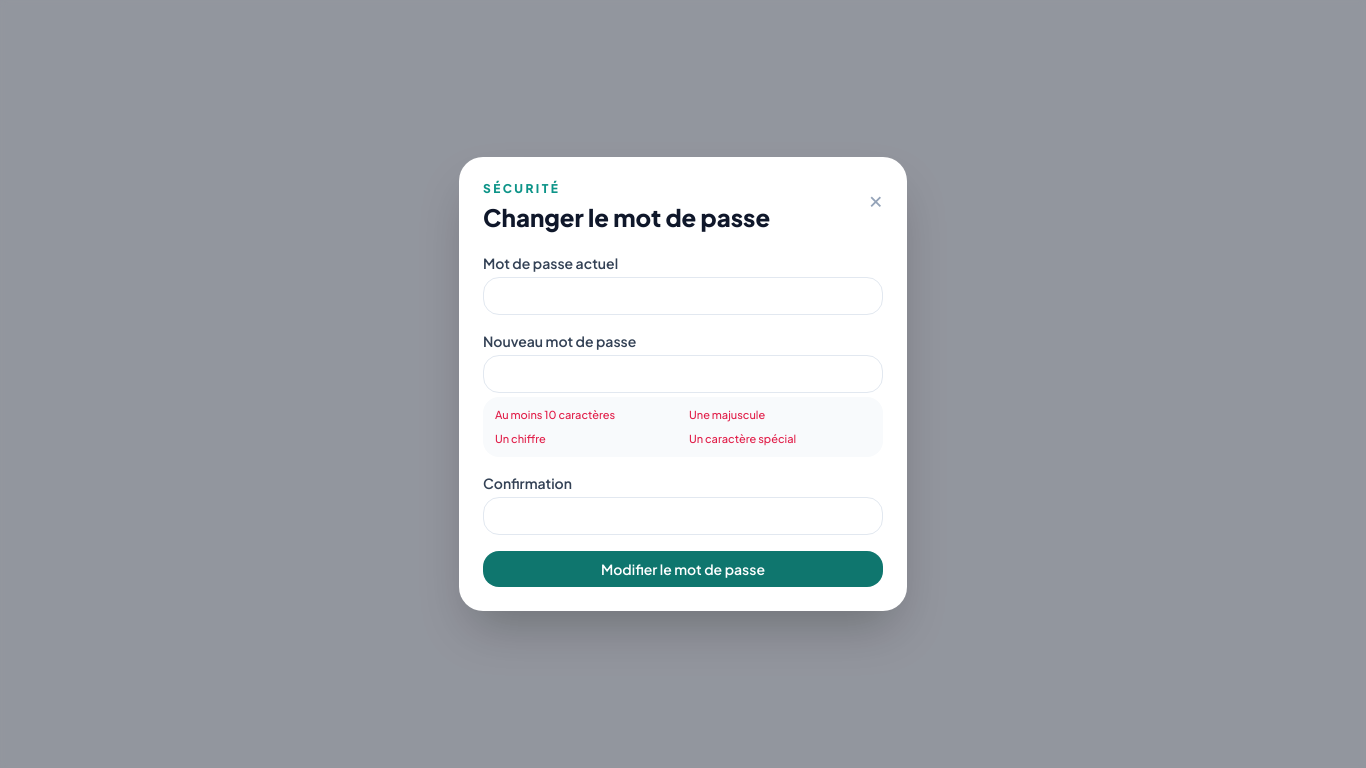
Test: ChangePasswordModal — politique de mot de passe › exige une confirmation identique
Expected: the text "Au moins 10 caractères" is shown, [495,408,615,421]
Type "Robuste-2026" into the 2nd password field. click: (683, 374)
box: [483,355,883,393]
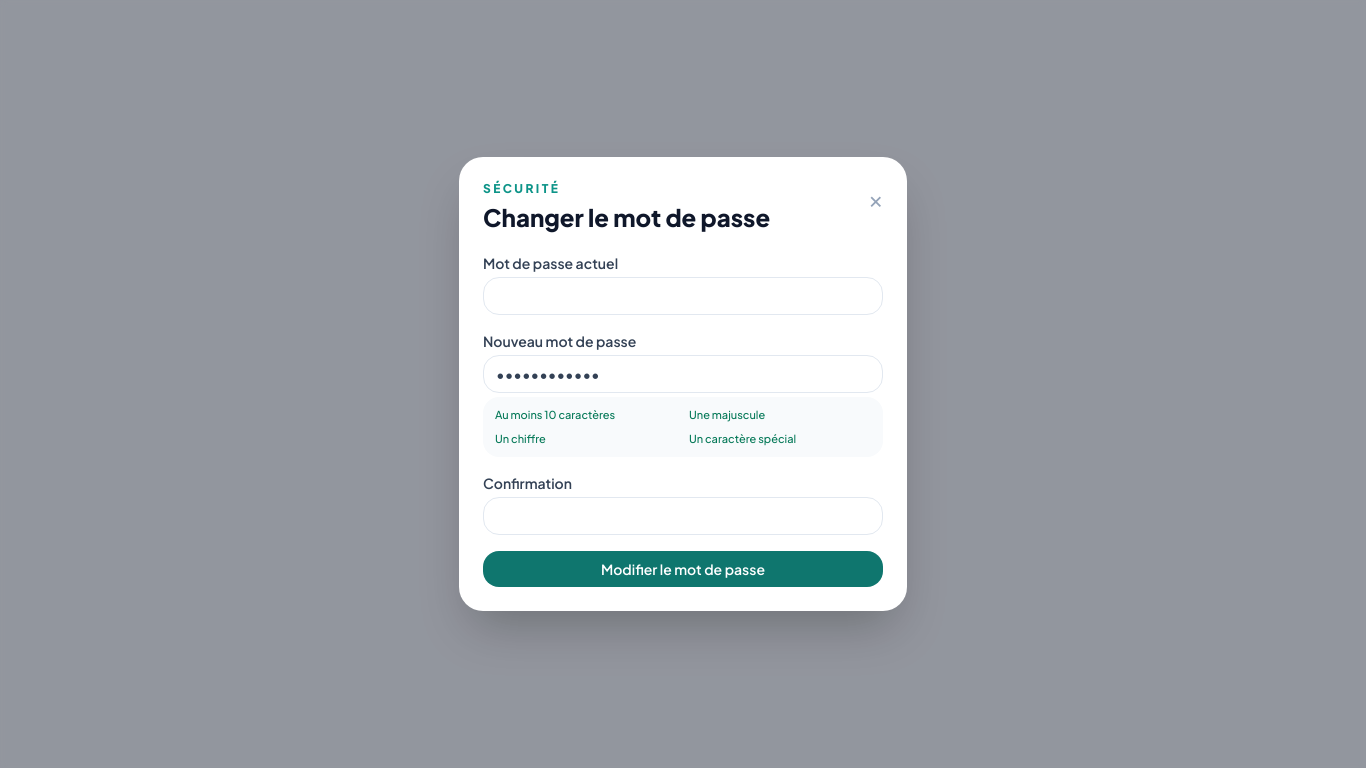
Type "Robuste-2027" into the password field labelled "Confirmation". click: (683, 516)
box: [483,497,883,535]
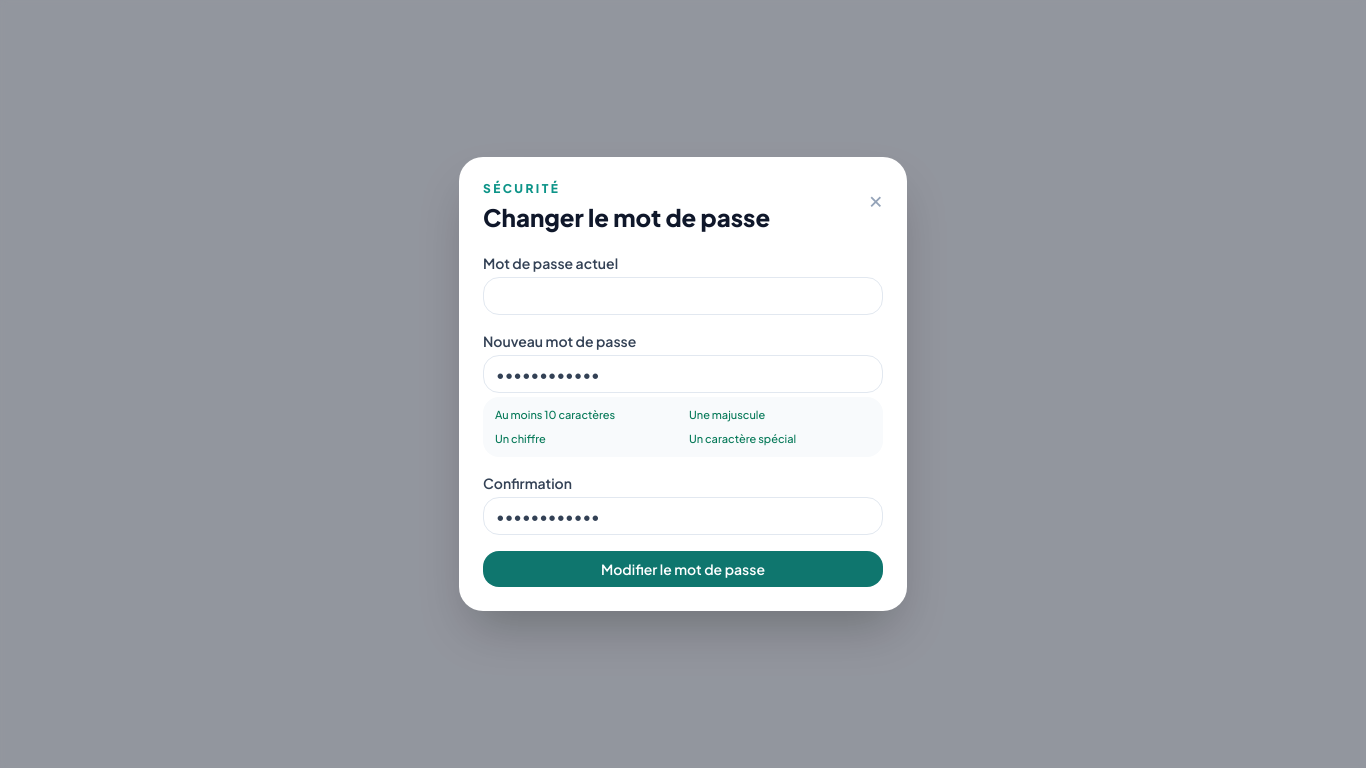
Submit the form, box [483,253,883,587]
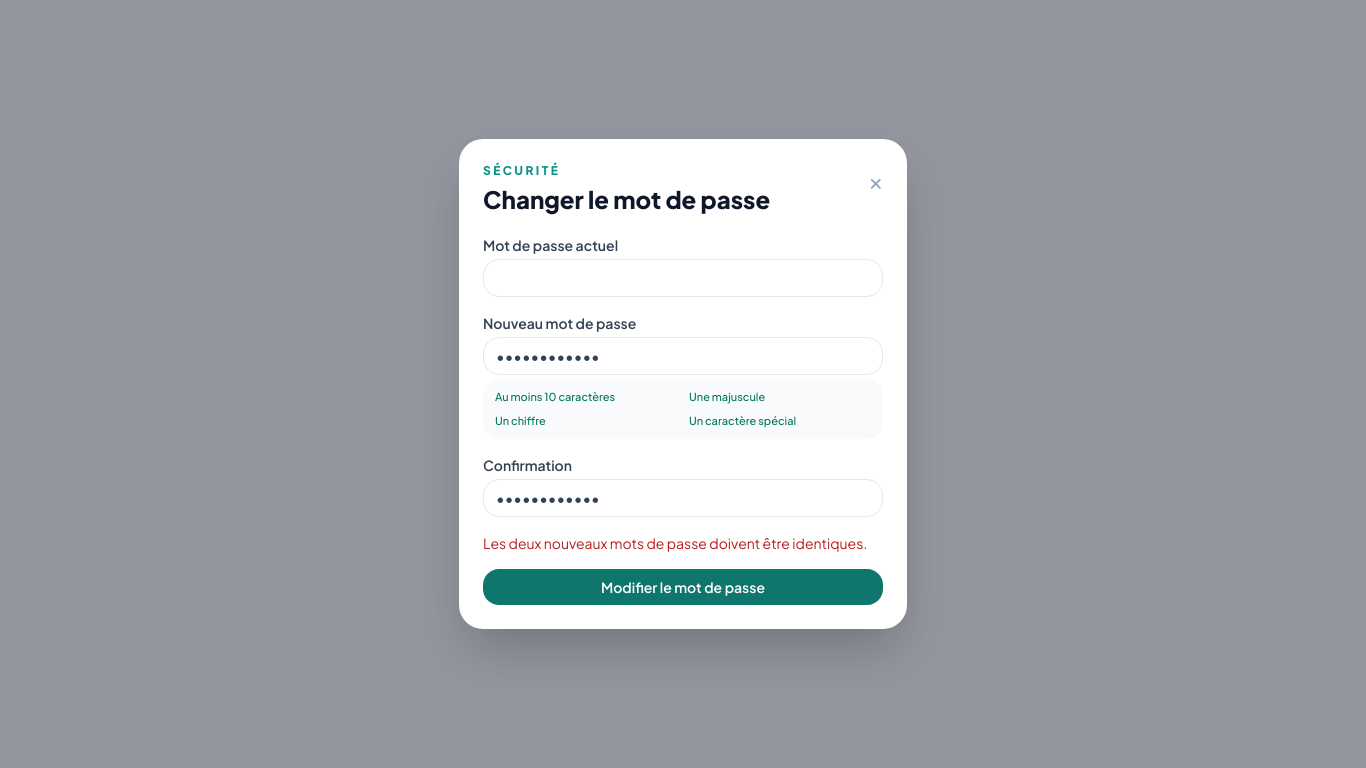
Expected: the message reads "Les deux nouveaux mots de passe doivent être identiques.", [483,534,867,552]
